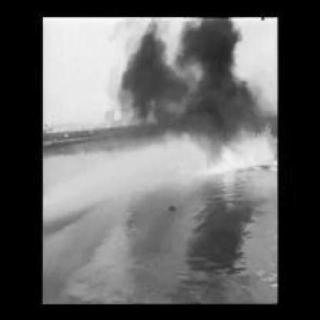Fire: (182, 123, 276, 173)
